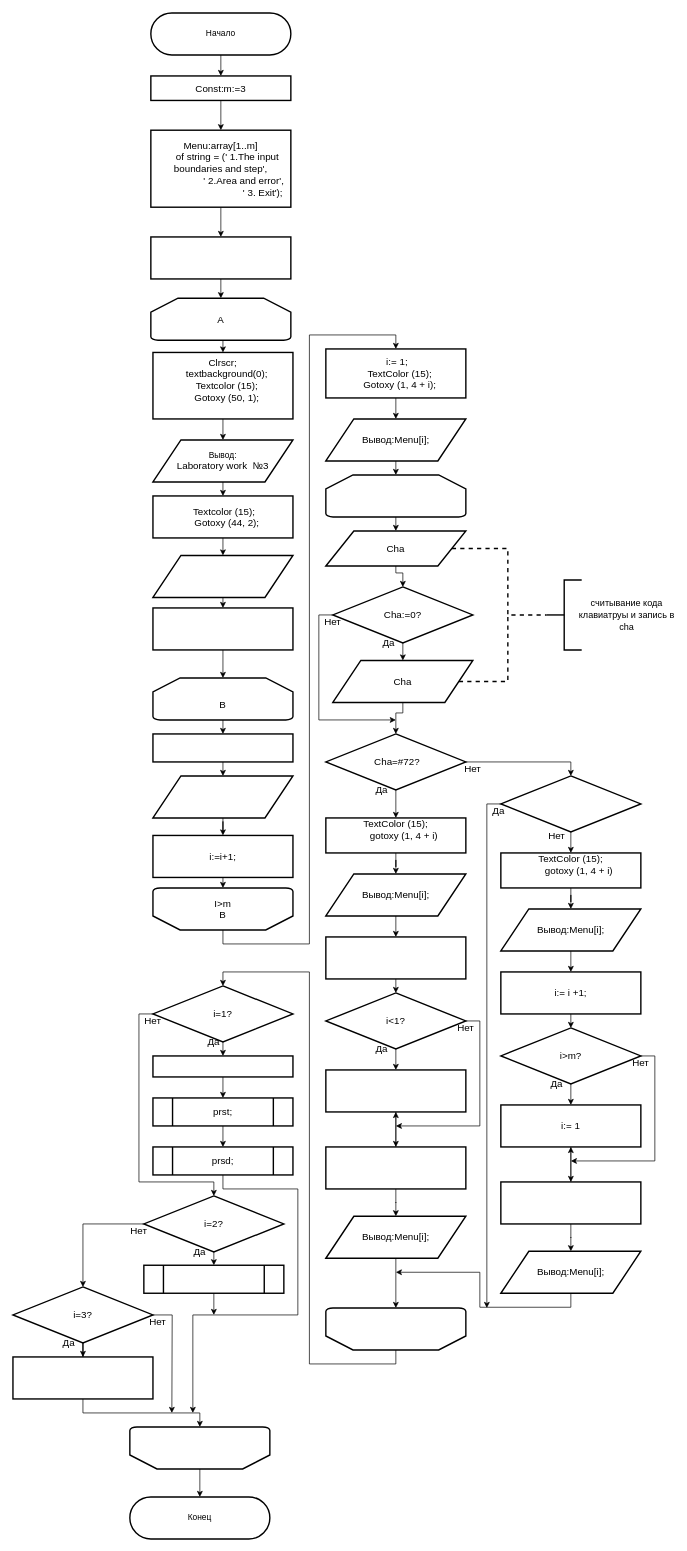
The diagram is 687 pixels wide and 1551 high, and some of its shapes have lost their labels. The centre of each missing label's shape, as x and y in pixels:
"Cg" belongs at (395,495).
"Cha=#13 Cg" belongs at (395,1328).
"Cha=#80?" belongs at (570,803).
"clrscr; Textcolor (15); i:= 0;" belongs at (82,1377).
"count:=0; en:=1; textbackground(15);" belongs at (220,257).
"Count:=1;" belongs at (222,1066).
"GotoXY (1, 4 + i);" belongs at (222,747).
"Gotoxy (44, 2); Textcolor (15);" belongs at (222,628).
"i:= 3" belongs at (395,1090).
"i:= i - 1;" belongs at (395,957).
"I=0 A" belongs at (199,1447).
"prthd;" belongs at (213,1279).
"Textcolor (114); Gotoxy (1, 4 + i)" belongs at (395,1167).
"Textcolor (5); Gotoxy (1, 4 + i)" belongs at (570,1202).
"Вывод: F= 2*x^3 + (-1)*x^2 + (4)*x + (17)" belongs at (222,576).
"Вывод: Write (Menu[i]);" belongs at (222,796).
